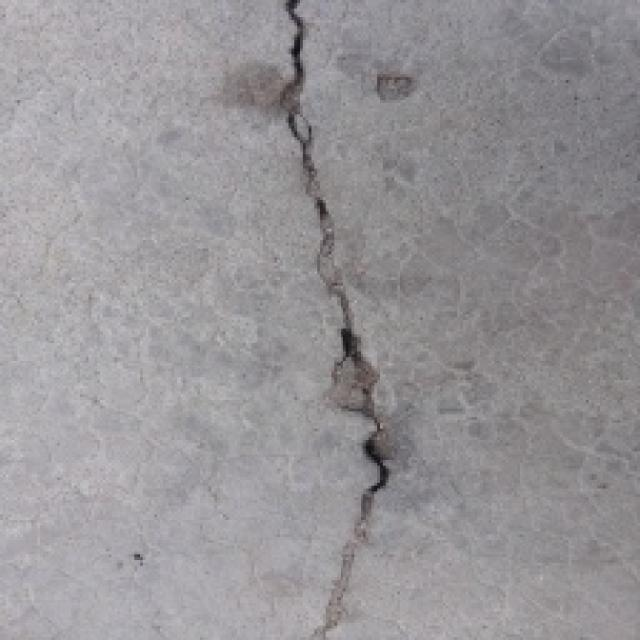crack: (272, 0, 396, 640)
